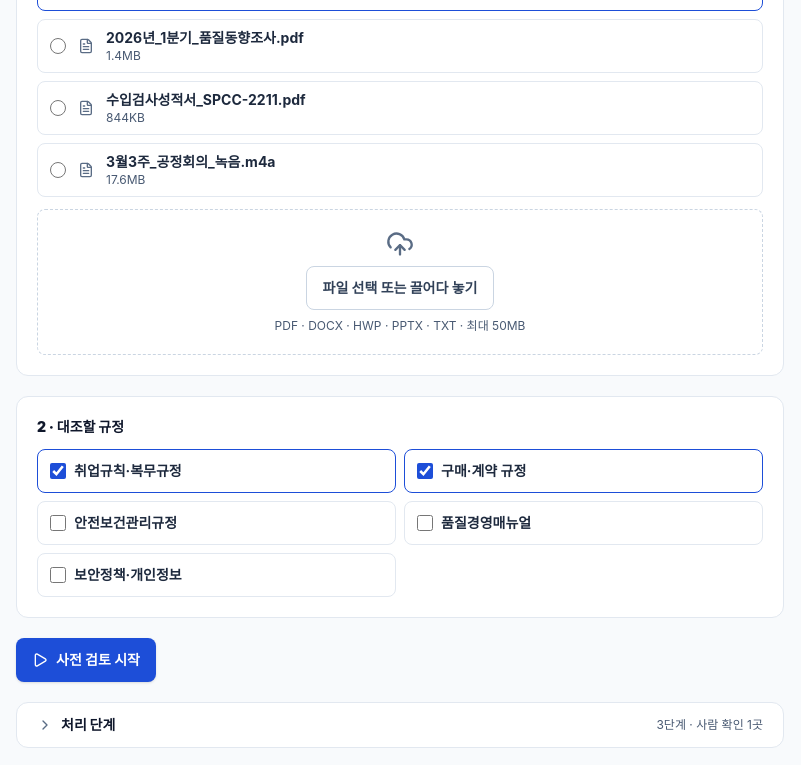
Scenario: ReviewPage › AI 대조 결과임을 고지한다
The width and height of the screenshot is (801, 765).
(page scrolled)
Click the button "사전 검토 시작" at (86, 660), box left=16, top=638, right=156, bottom=682
(page scrolled)
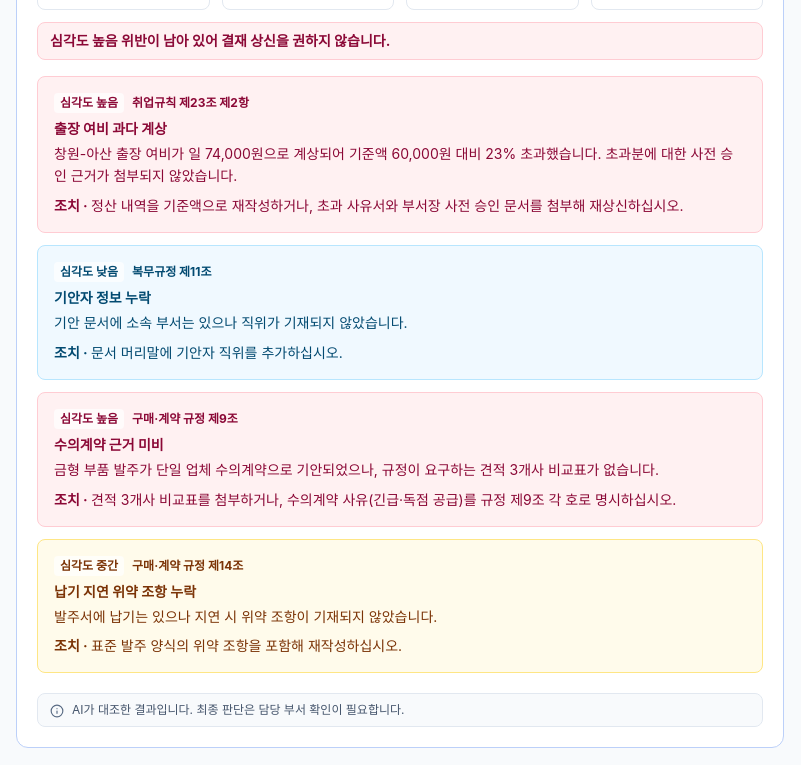
Check: the text "AI가 대조한 결과입니다. 최종 판단은 담당 부서 확인이 필요합니다." is shown, box left=72, top=702, right=404, bottom=718
